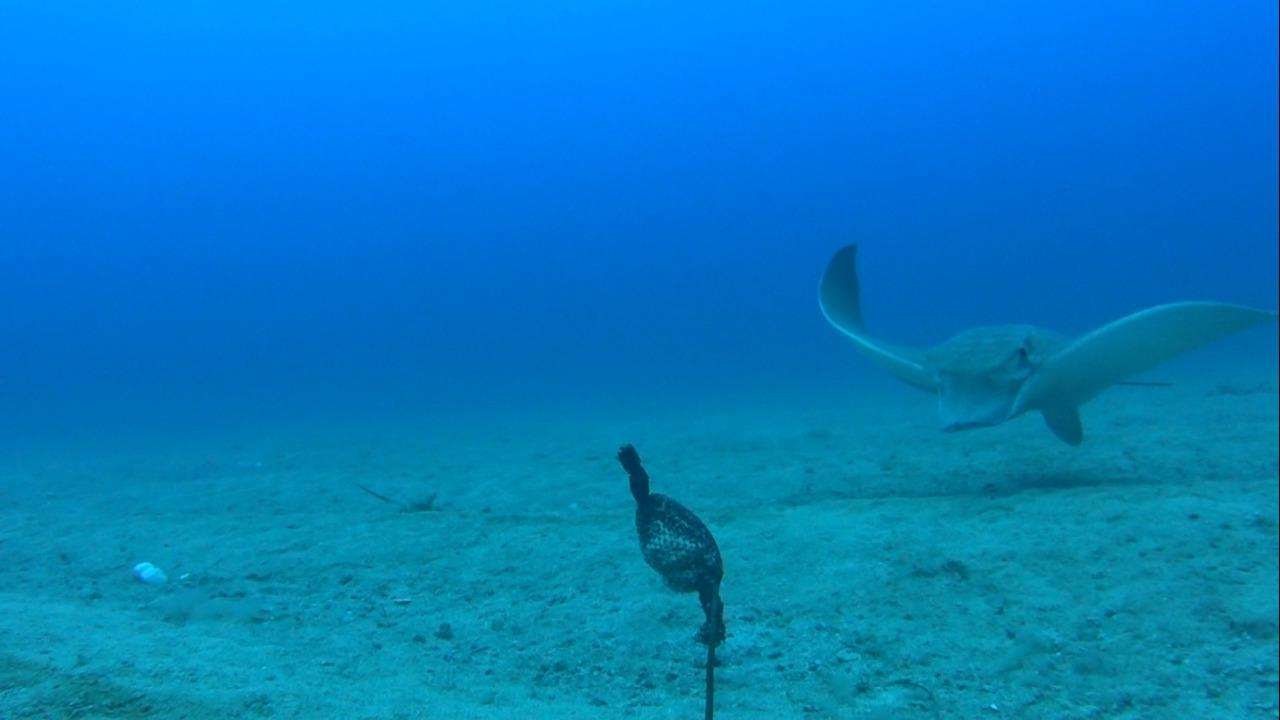myliobatis: (806, 234, 1279, 459)
